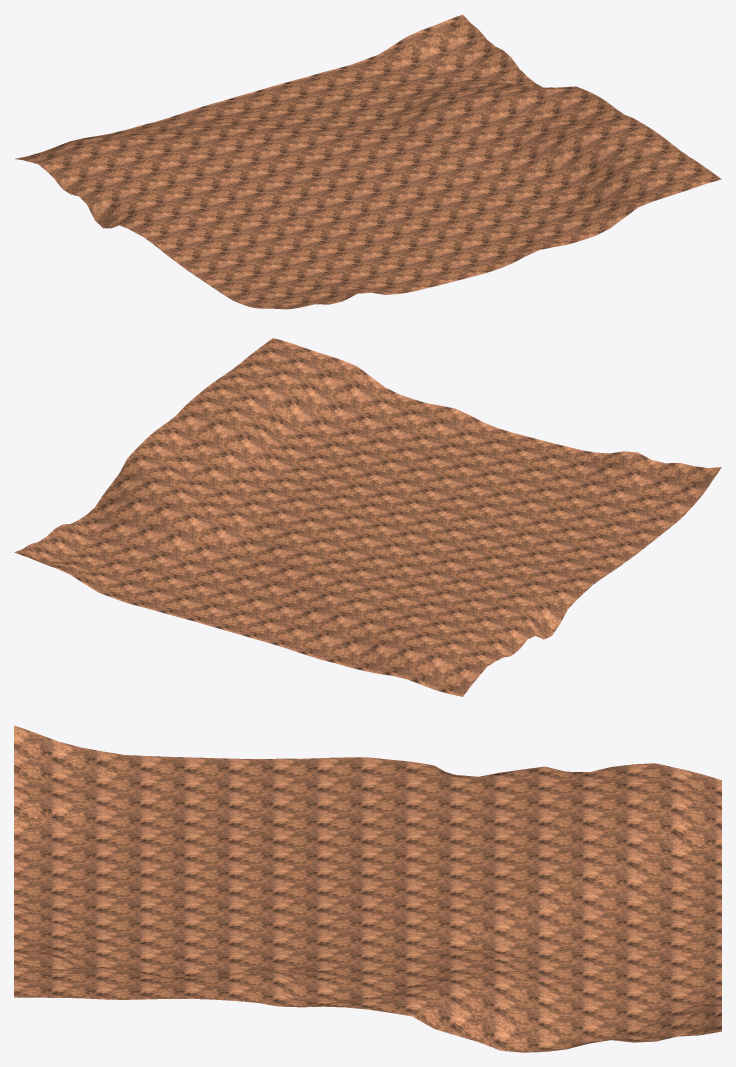
The model's file is terrain_03_19.dae.
The picture shows the model from 3 angles, top to bottom: view 1: azimuth 30°, elevation 25°; view 2: azimuth 150°, elevation 25°; view 3: azimuth 270°, elevation 25°; orthographic projection. The views are drawn at different scales.
Visible parts, largest first — view 1: terrain_03_19-node; view 2: terrain_03_19-node; view 3: terrain_03_19-node.
Part boxes in pixels (left/top/right/bottom): terrain_03_19-node: left=15, top=14, right=721, bottom=309; terrain_03_19-node: left=14, top=338, right=721, bottom=696; terrain_03_19-node: left=14, top=725, right=721, bottom=1052.
Bounding box in the file's own units: 128 × 128 × 17.43.
1 material, 1 textured.
